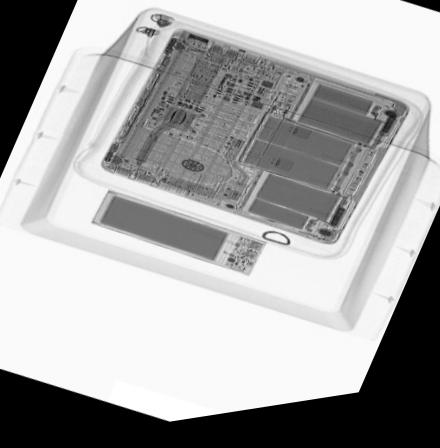Powerbank: (88, 190, 269, 282)
